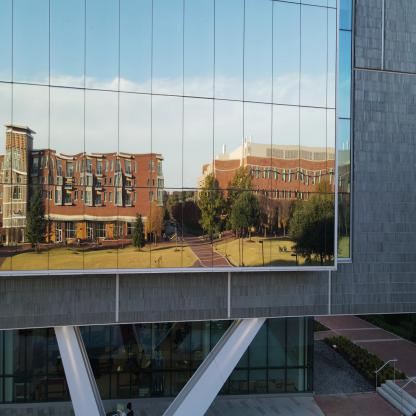Fitts- Woolard: (0, 4, 415, 390)
